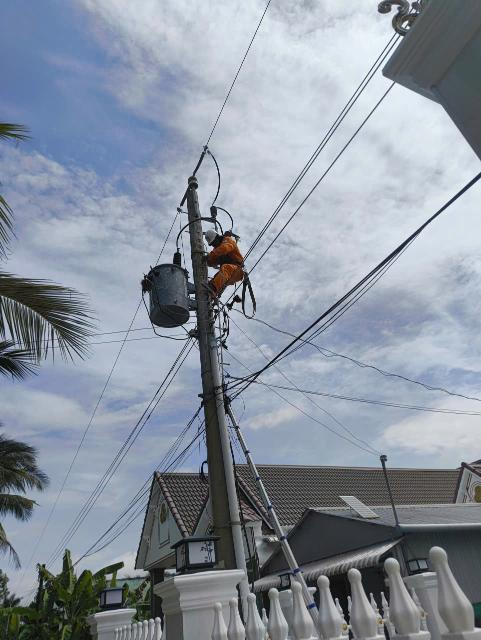gloves: (201, 254, 211, 263)
harness: (219, 257, 247, 269)
helmet: (203, 228, 222, 246)
shoes: (203, 280, 219, 297)
